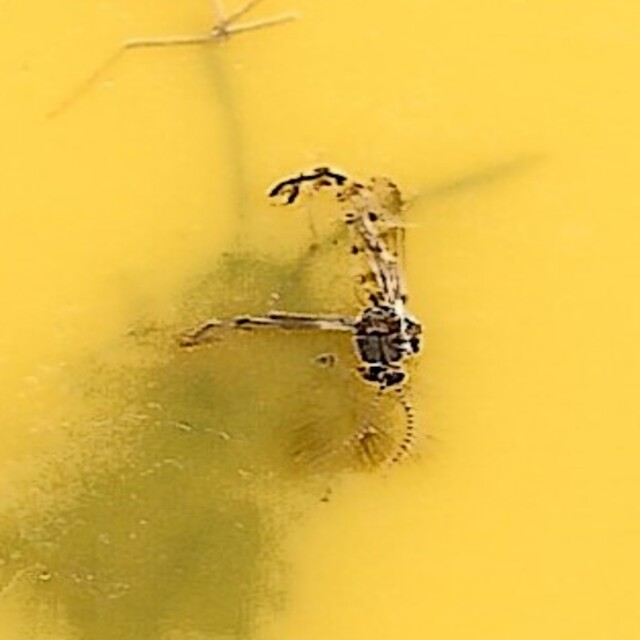Nematocera: (204, 163, 436, 477)
